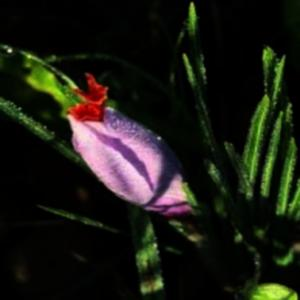Saffron: (69, 106, 208, 232)
